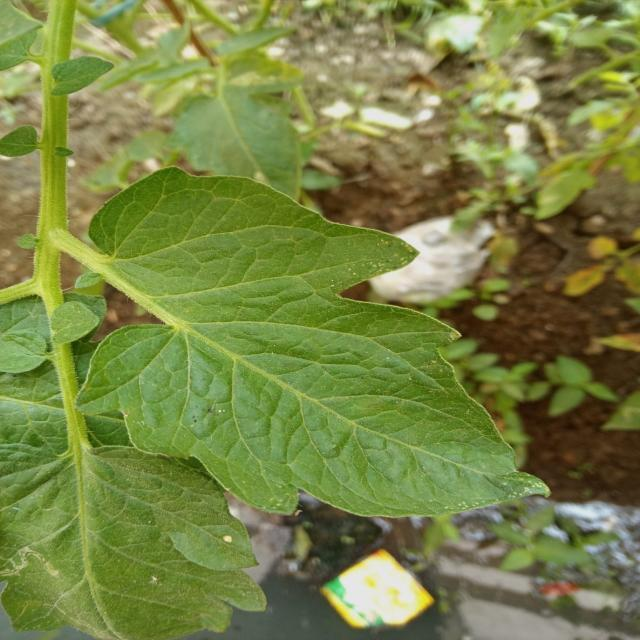Healthy: (0, 104, 617, 619)
